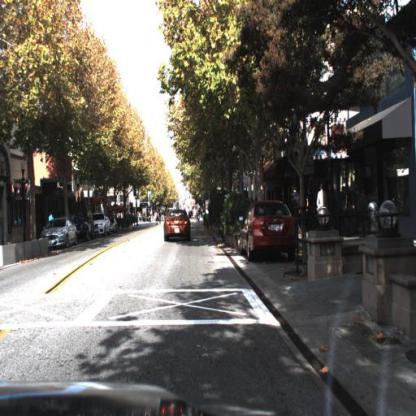car: (237, 197, 300, 263), (40, 218, 81, 250), (163, 208, 193, 244), (76, 208, 94, 243), (92, 212, 110, 236)
pedestrian: (315, 183, 331, 222), (291, 187, 302, 214), (48, 211, 56, 224), (157, 209, 162, 224), (197, 208, 201, 226), (50, 212, 55, 222)
